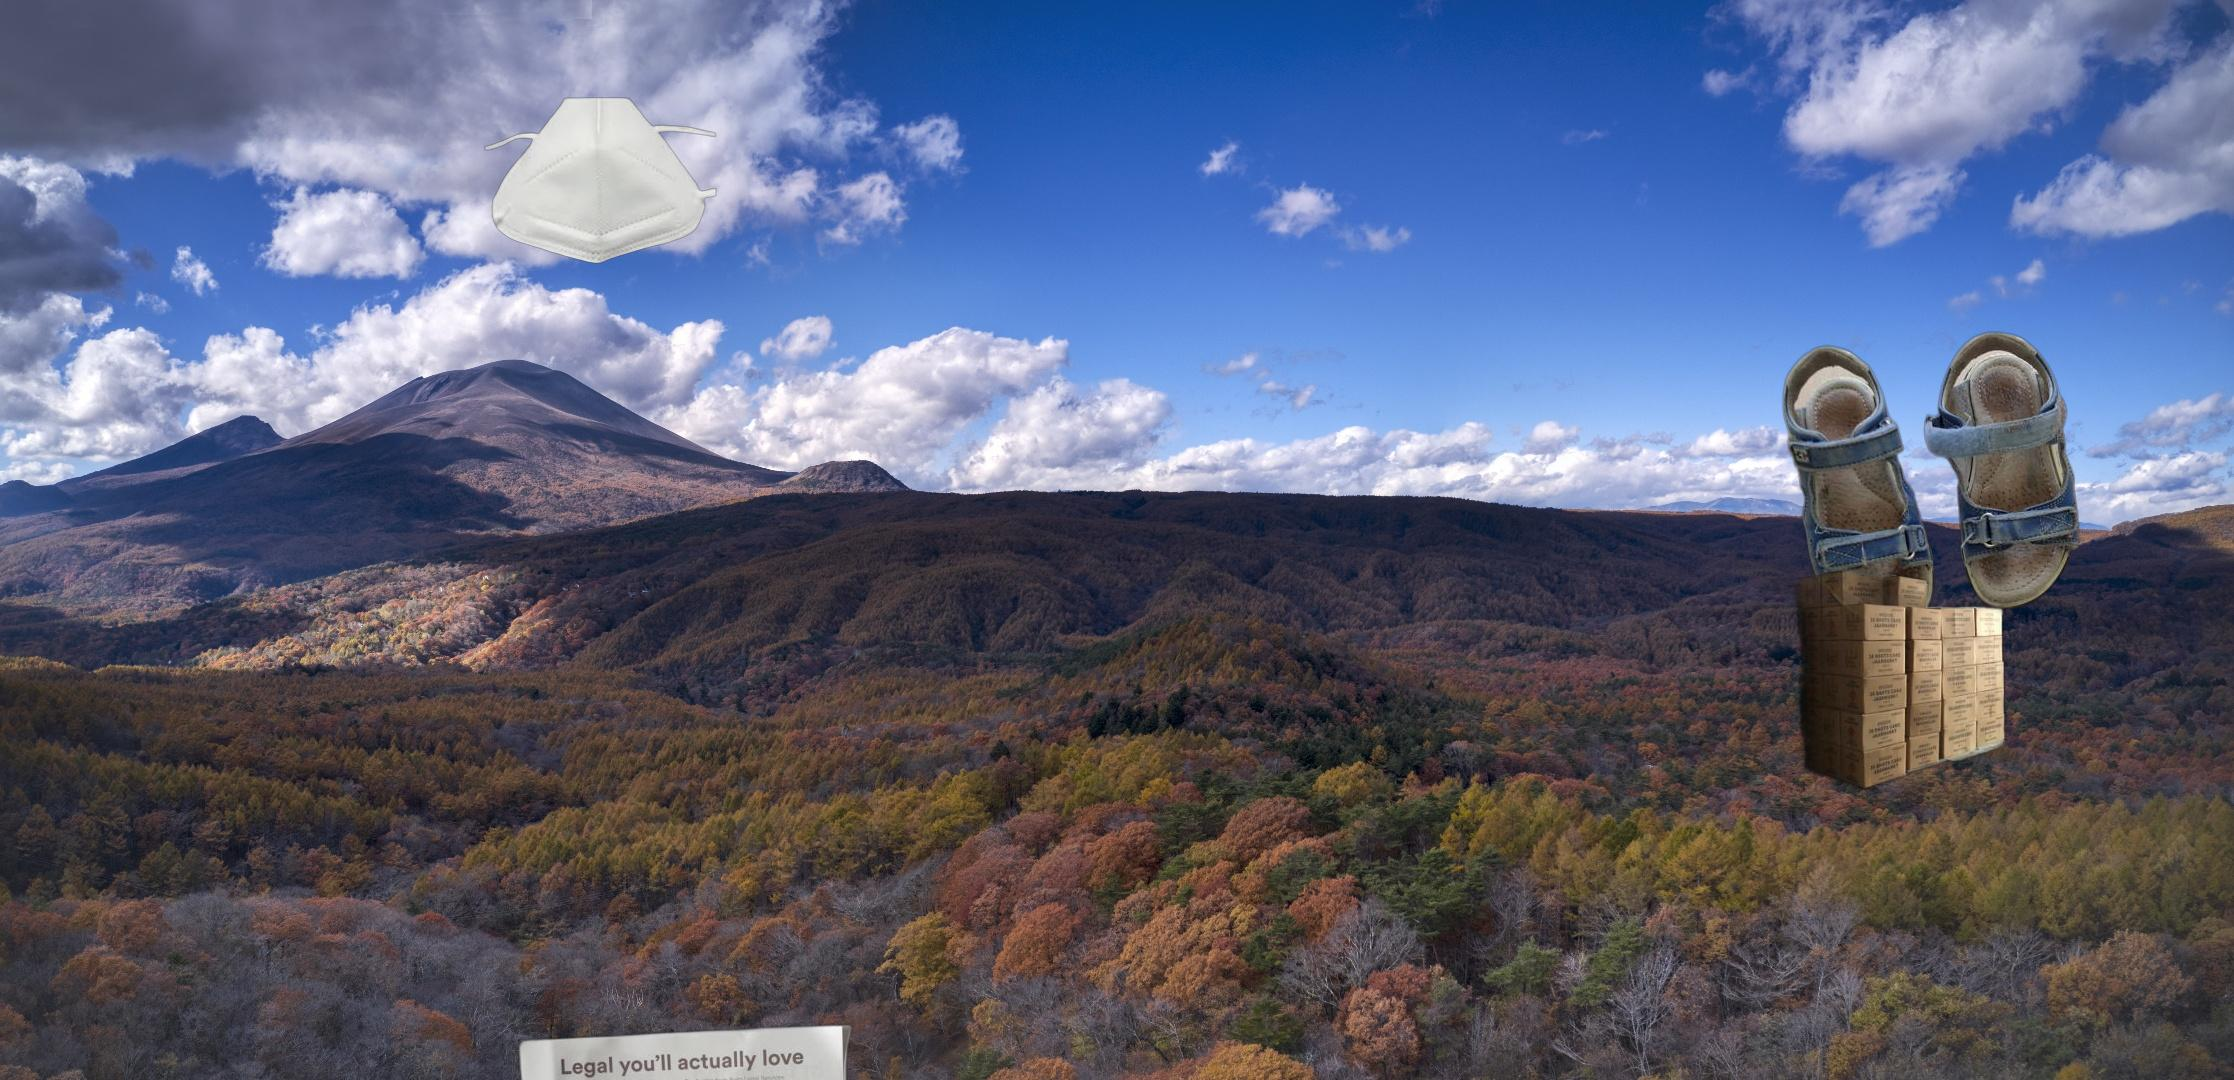paper: (514, 1022, 861, 1080)
shoes: (1780, 328, 2082, 630)
trash: (484, 95, 719, 266)
trashbox-cardboard: (1707, 539, 2016, 858)
